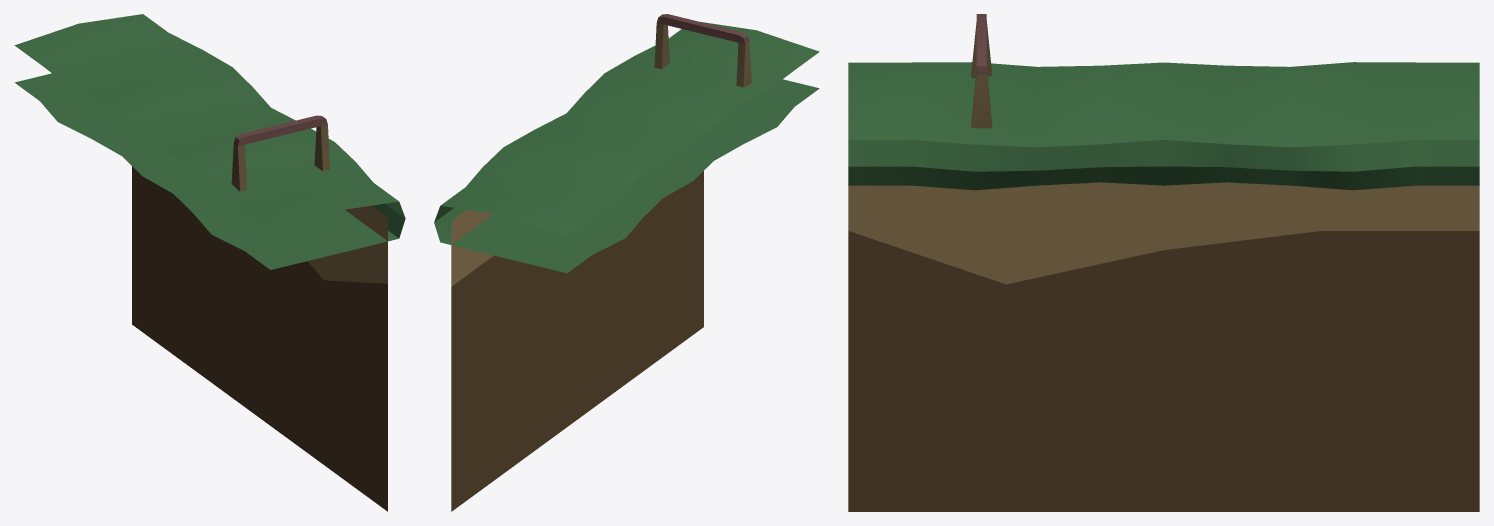
The model's file is WorldObjects.fbx.
3 renders of one model, left to right at view 1: azimuth 30°, elevation 25°; view 2: azimuth 150°, elevation 25°; view 3: azimuth 270°, elevation 25°, orthographic. The views are drawn at different scales.
Visible parts, largest first — view 1: Cube.001, Cube.002; view 2: Cube.001, Cube.002; view 3: Cube.001, Cube.002.
Part boxes in pixels (box(x1,y1,x2,y2)): Cube.001: box(14, 14, 405, 511); Cube.002: box(231, 115, 329, 191); Cube.001: box(434, 22, 819, 511); Cube.002: box(654, 14, 751, 87); Cube.001: box(848, 62, 1479, 511); Cube.002: box(971, 14, 992, 128).
Size of the model in its own units: 342 by 773 by 1000.
